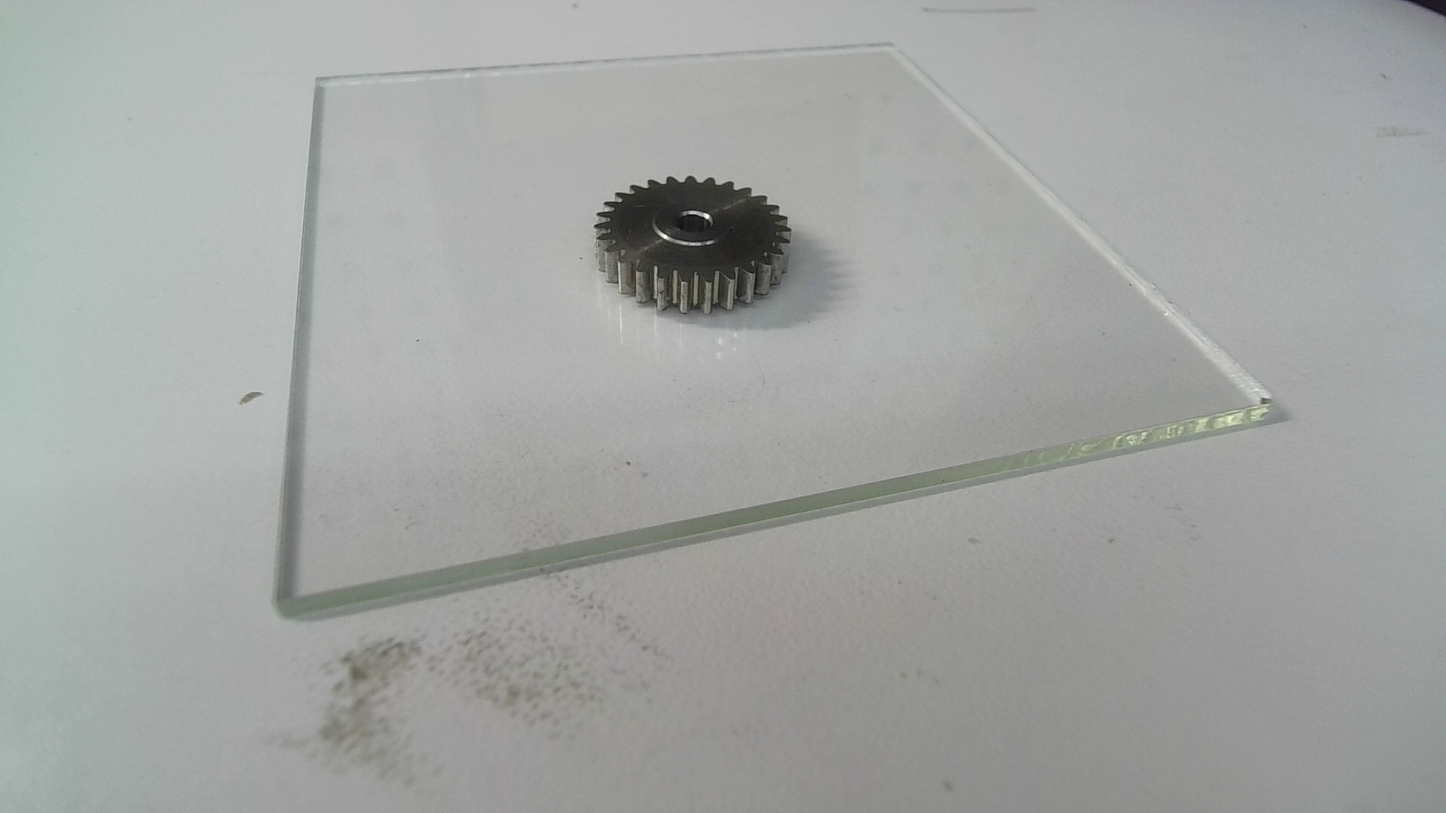gear: (593, 172, 795, 321)
